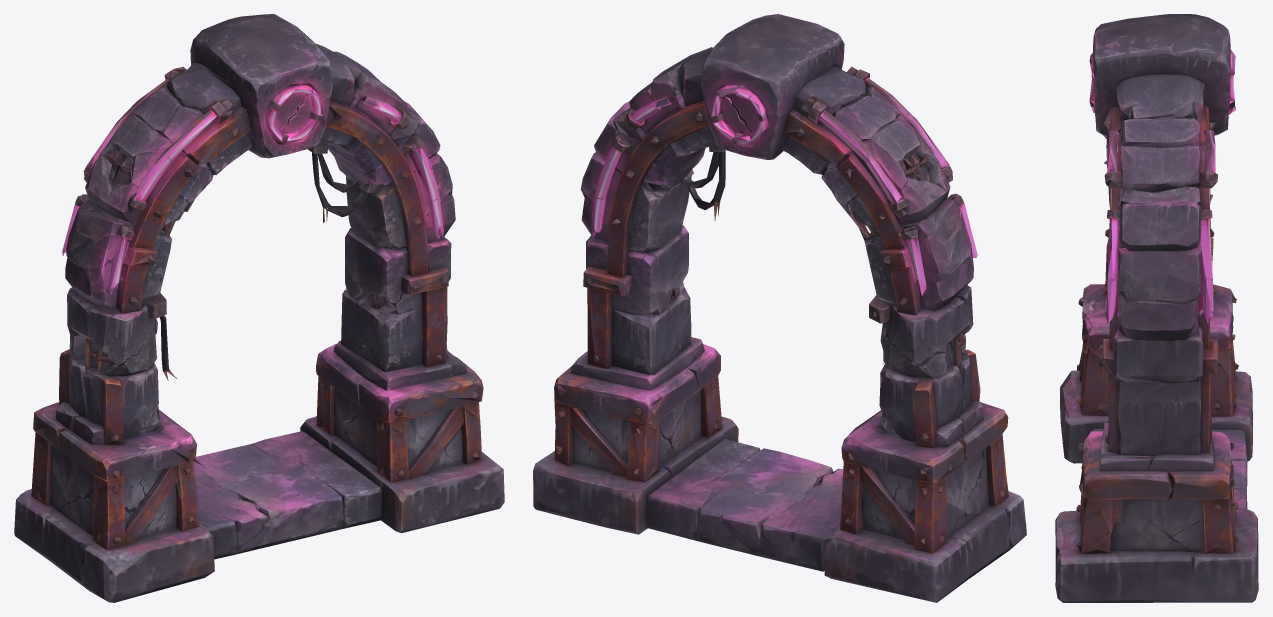
Rendered from portale-metropoli-spenta.glb.
3 renders of one model, left to right at view 1: azimuth 30°, elevation 25°; view 2: azimuth 150°, elevation 25°; view 3: azimuth 270°, elevation 25°, orthographic.
Bounding box in the file's own units: 1.63 × 1.9 × 0.722.
1 material, 1 textured.
